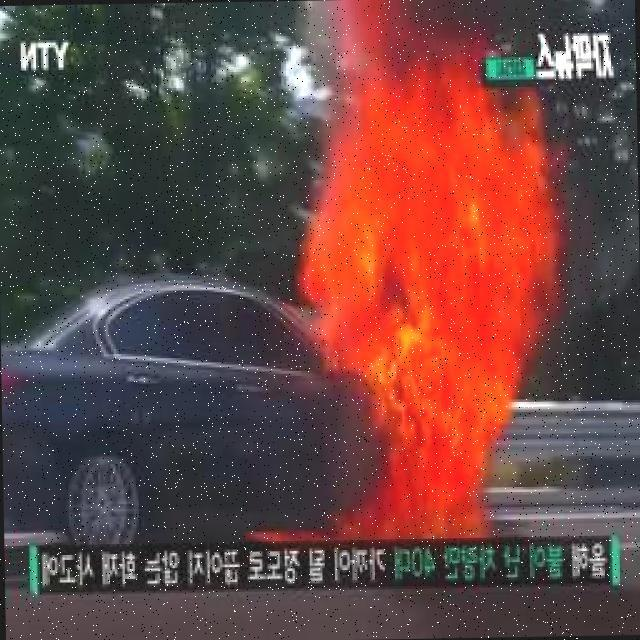Fire: (345, 88, 537, 544)
